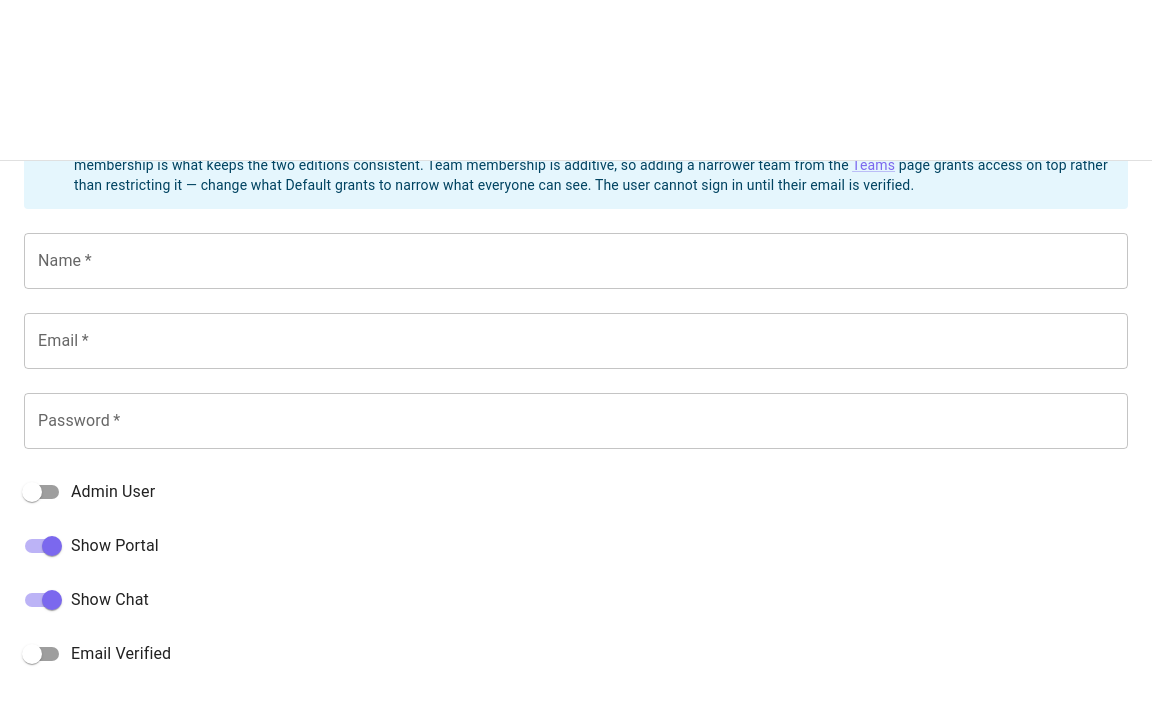
Scenario: UserForm Component › shows AccessToSSOConfig switch when Admin is selected
Expected: the text "Enable access to IdP configuration" is not shown
Note: Toggle the Admin switch
Click the checkbox labelled "Admin User": (89, 492) x1=22 y1=482 x2=155 y2=502
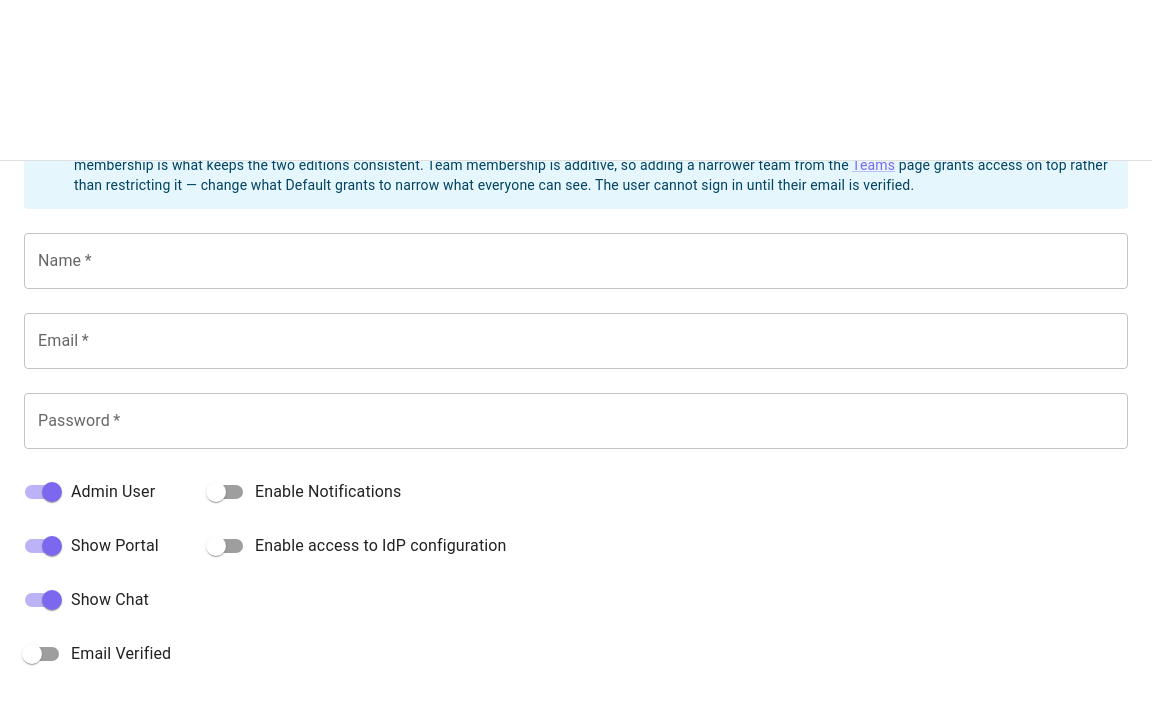
Result: the text "Enable access to IdP configuration" is shown at x1=255 y1=534 x2=507 y2=558
Note: Toggle the Admin switch back to off
Click the checkbox labelled "Admin User": (90, 492) x1=25 y1=482 x2=155 y2=502
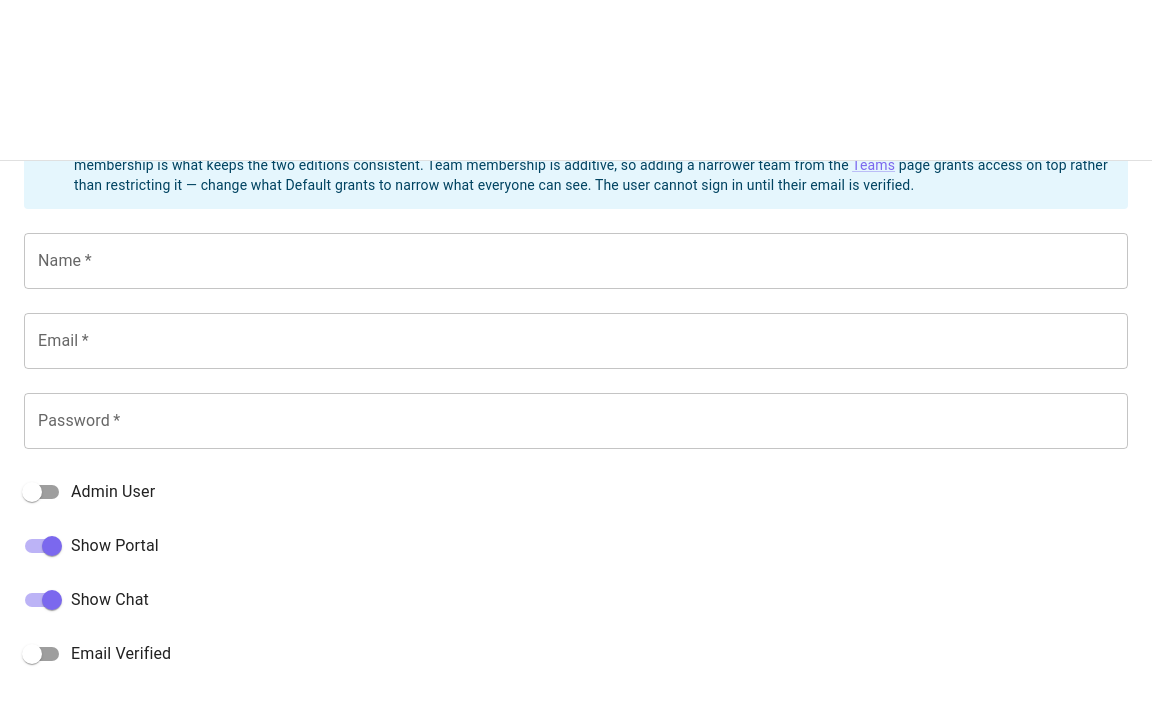
Result: the text "Enable access to IdP configuration" is gone
